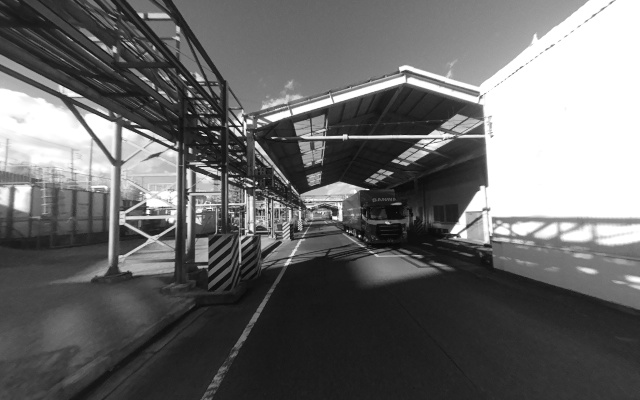bollard: (206, 232, 241, 294), (240, 233, 262, 285), (281, 222, 293, 240), (415, 218, 424, 233), (296, 218, 304, 232)
